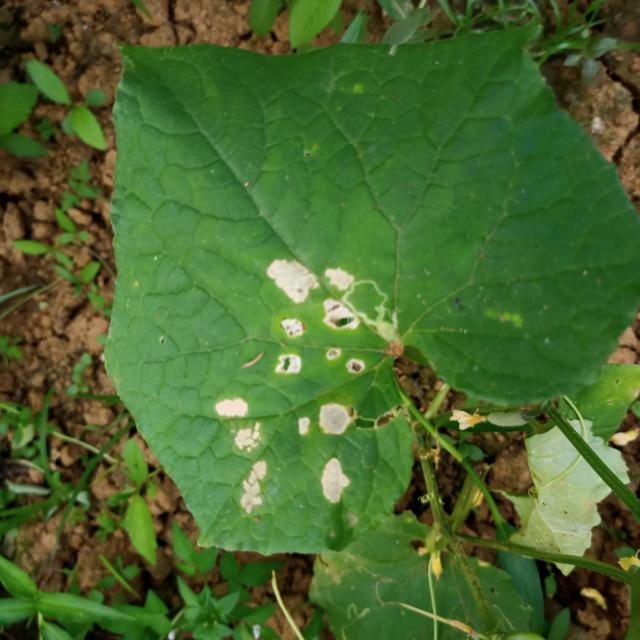disease_cucumber: (269, 261, 365, 503), (216, 399, 266, 513)
